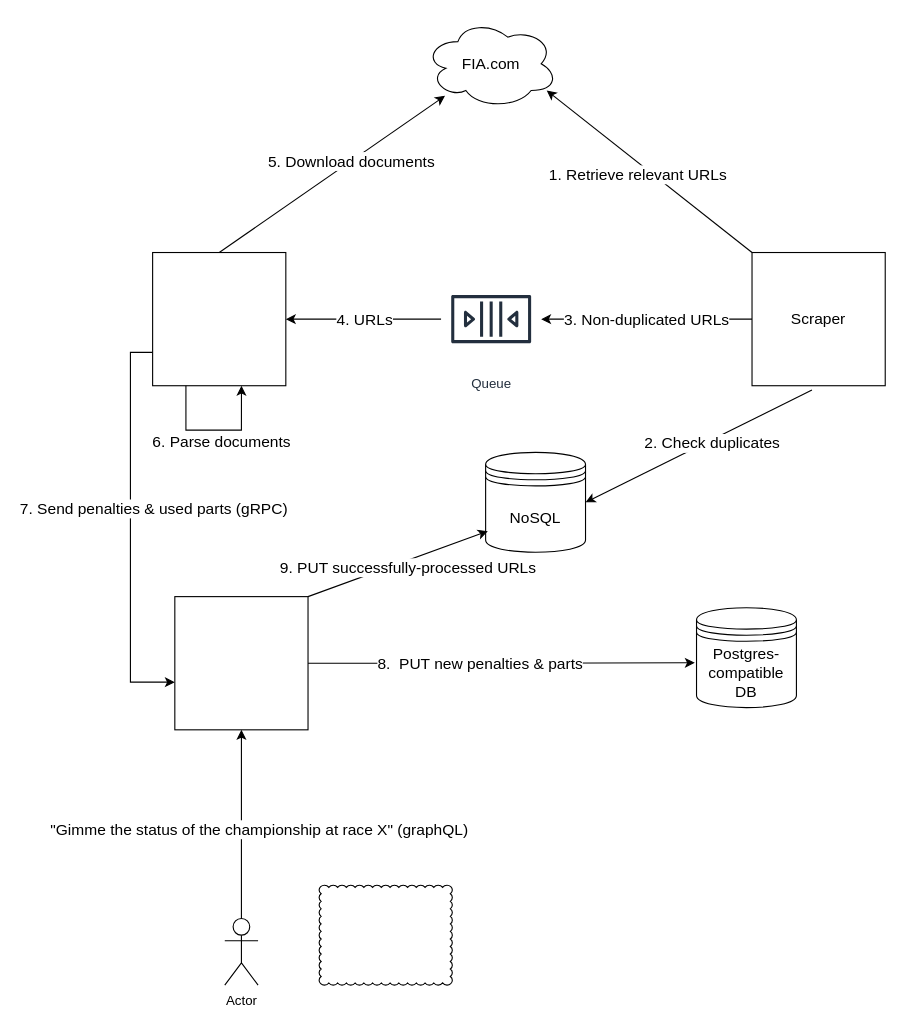
The diagram is 905 pixels wide and 1028 high, and some of its shapes have lost their labels. The box of each missing label's shape, as (x1, y1, x2, y2) in pixels:
Backend: (174, 596, 308, 730)
Downloader & parser: (152, 251, 286, 386)
The user part is part of the read flow (to be moved to another diagram): (318, 884, 452, 985)
